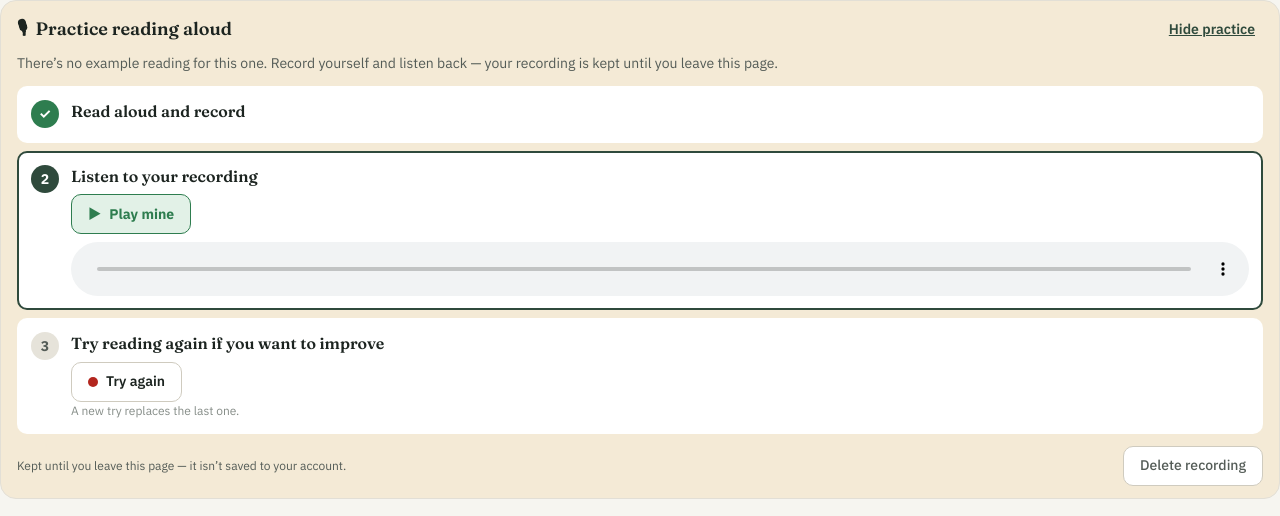
Scenario: RecordingBar: without an example reading (a temporary take) › provides a prominent Play button to play and pause the recording
The width and height of the screenshot is (1280, 516).
Click the button with test id "play-mine" at (131, 214), box [71,194,191,234]
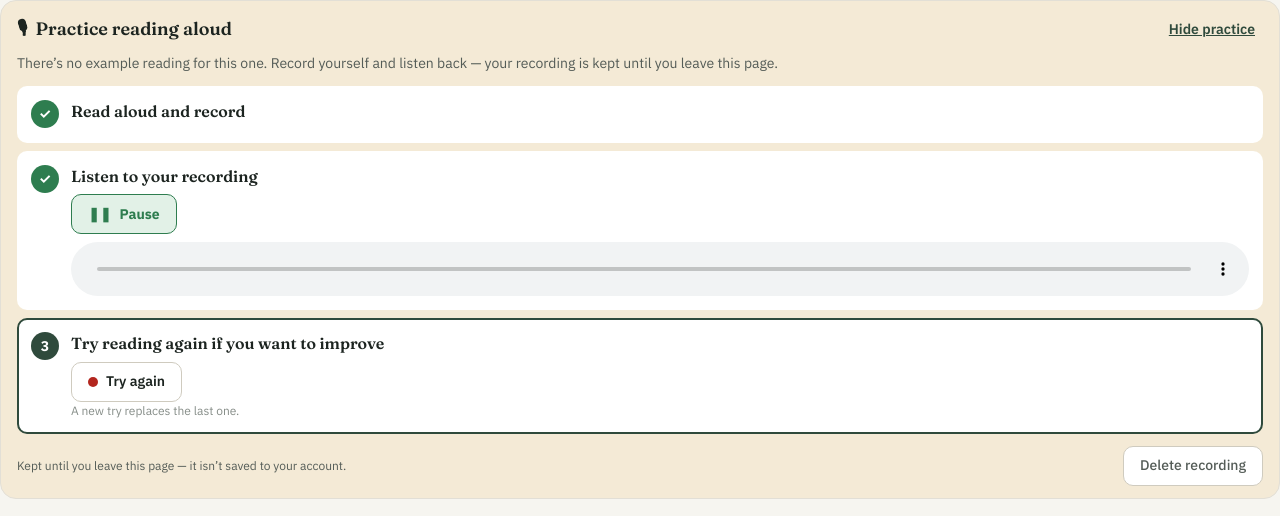
expect the button with test id "play-mine" shows "Pause": met
Click the button with test id "play-mine" at (124, 214), box [71,194,177,234]
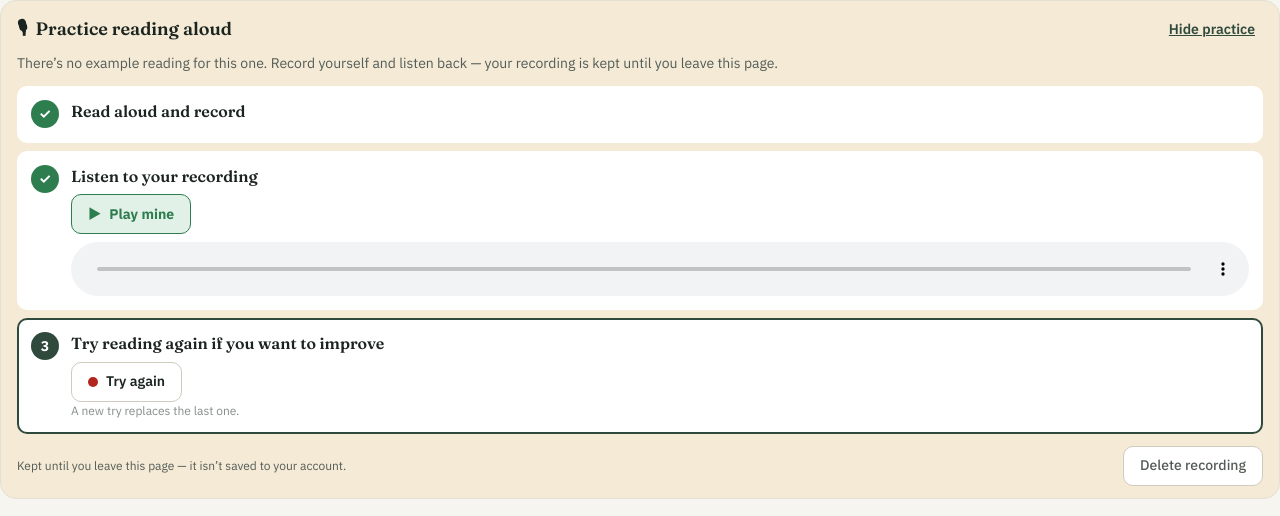
expect the button with test id "play-mine" shows "Play mine": met, box [71,194,191,234]
